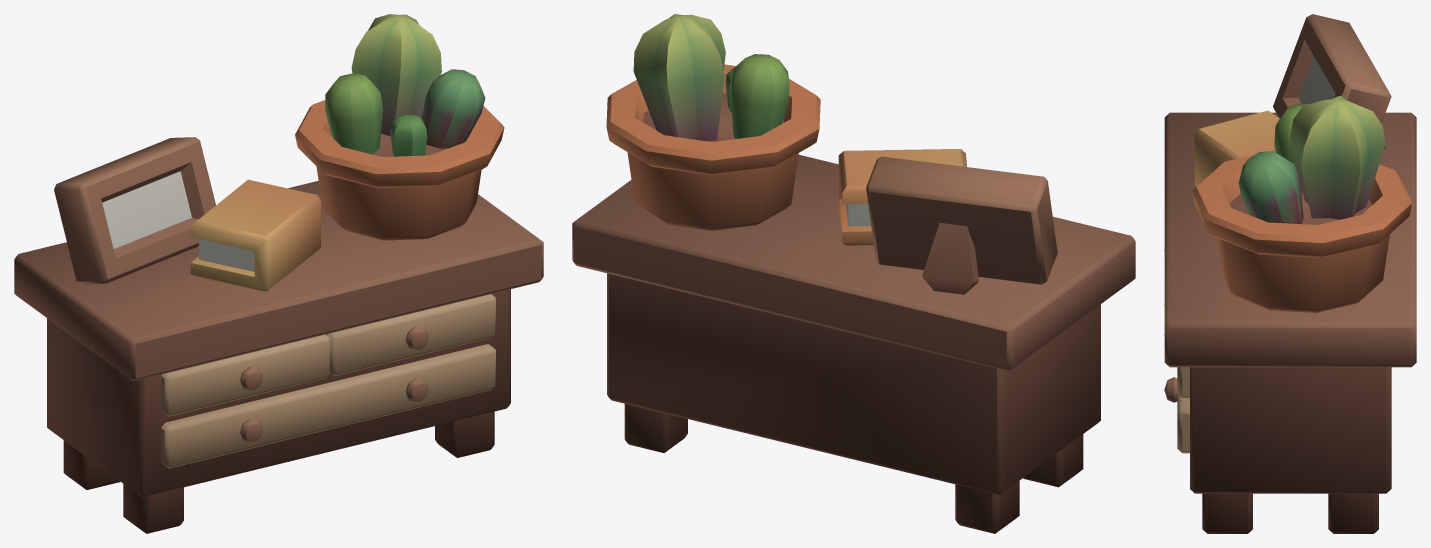
Rendered from cabinet-medium-decorated.glb.
The picture shows the model from 3 angles, left to right: view 1: azimuth 30°, elevation 25°; view 2: azimuth 150°, elevation 25°; view 3: azimuth 270°, elevation 25°; orthographic projection. The views are drawn at different scales.
Visible parts, largest first — view 1: cabinet-medium-decorated; view 2: cabinet-medium-decorated; view 3: cabinet-medium-decorated.
Part boxes in pixels (x1,y1,x2,y2): cabinet-medium-decorated: (14,14,543,533); cabinet-medium-decorated: (572,14,1135,533); cabinet-medium-decorated: (1164,14,1416,533).
Size of the model in its own units: 1.45 by 1.3 by 0.7126.
